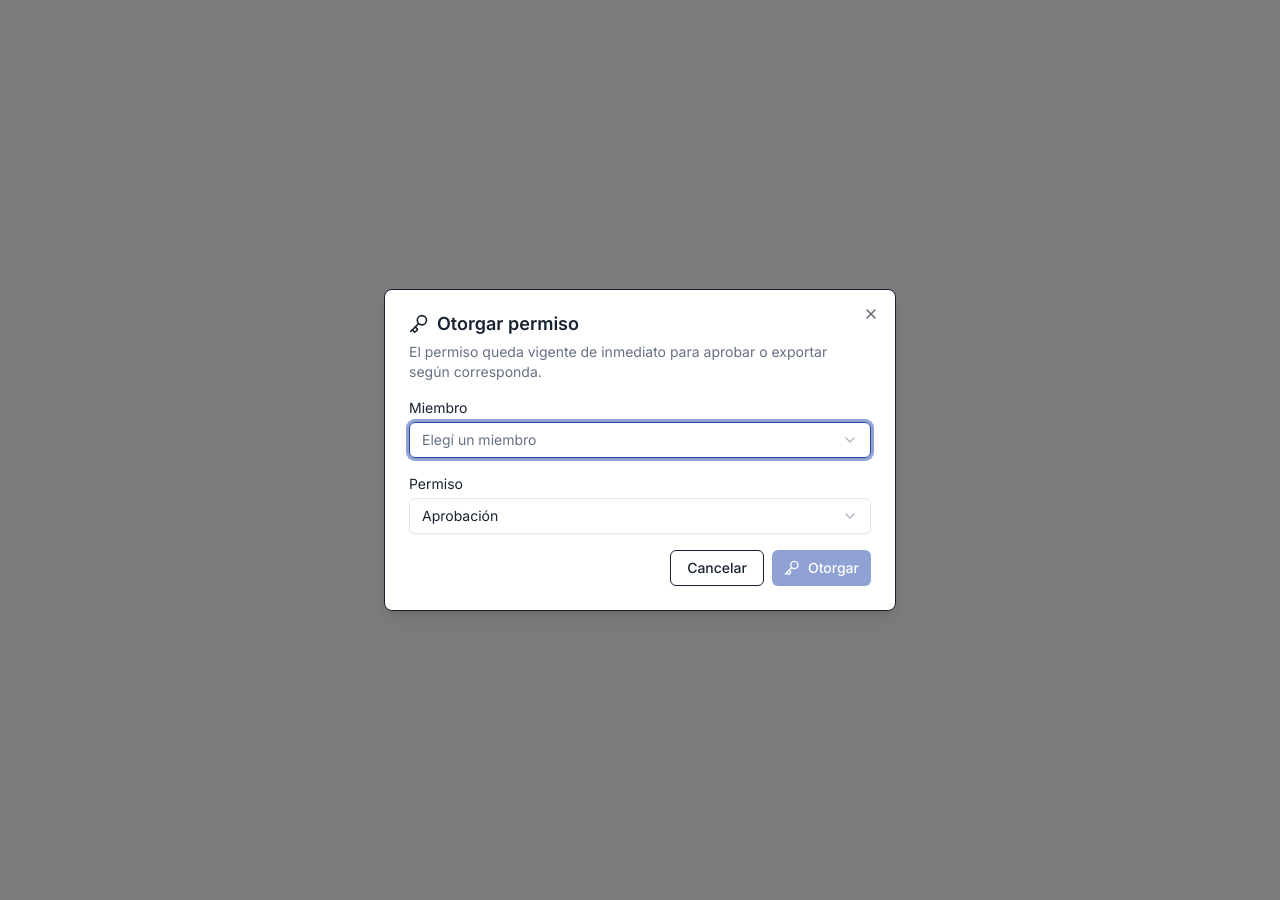
GrantDialog (F3, S9) › 409 duplicado: mensaje mapeado
Press Arrowdown
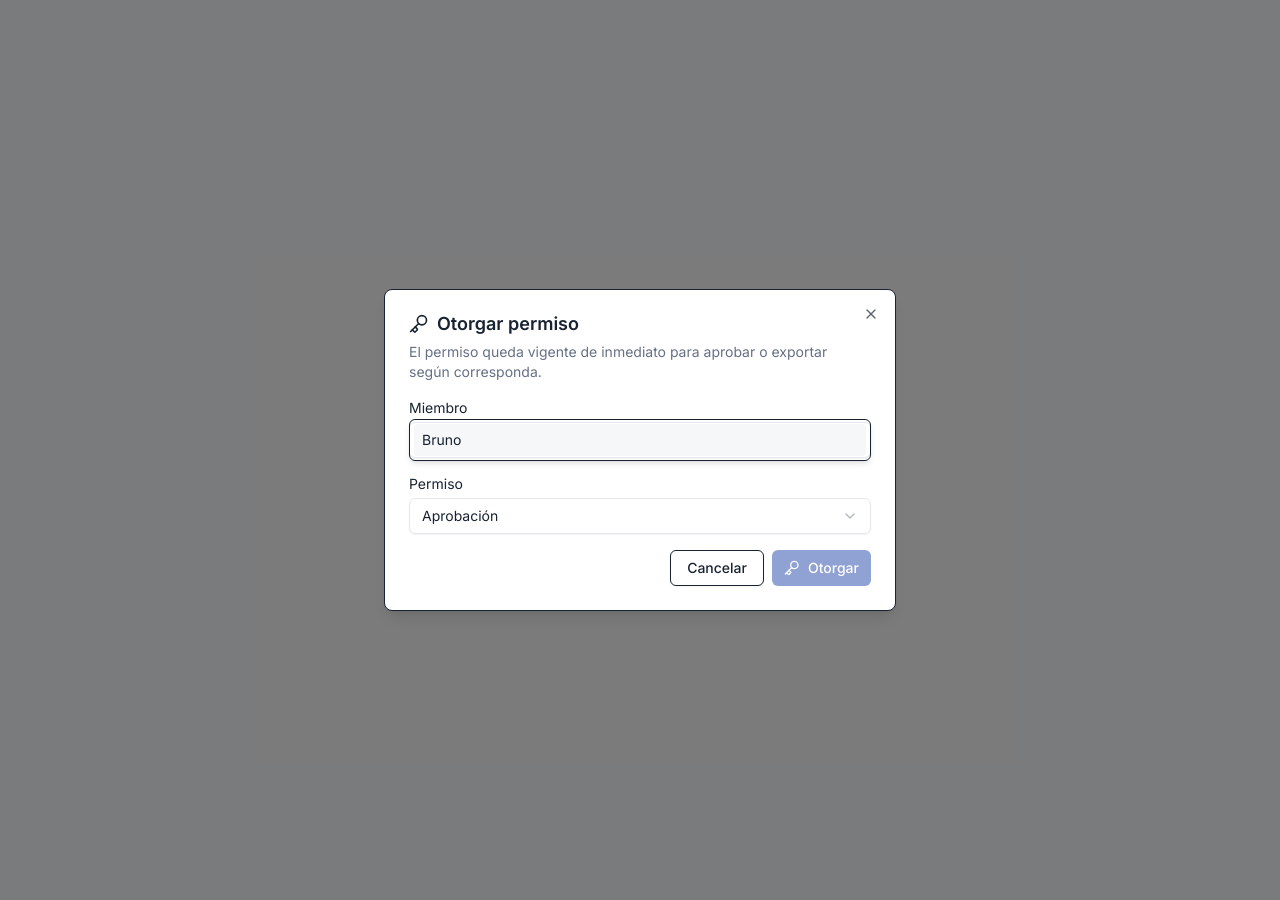
Click the option "Bruno": x=442, y=440 414,424 -> 866,456
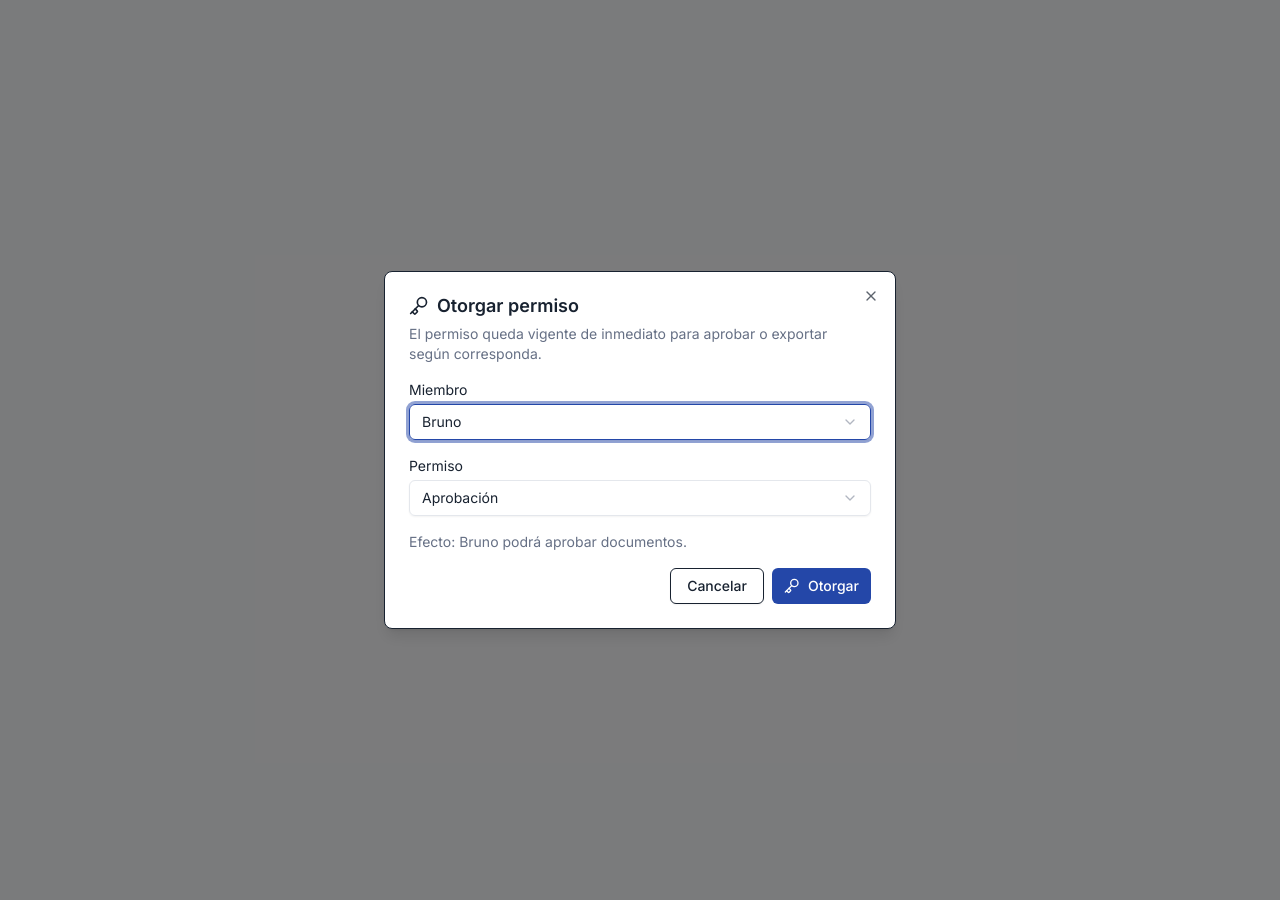
Click the button "Otorgar": x=822, y=586 772,568 -> 871,604
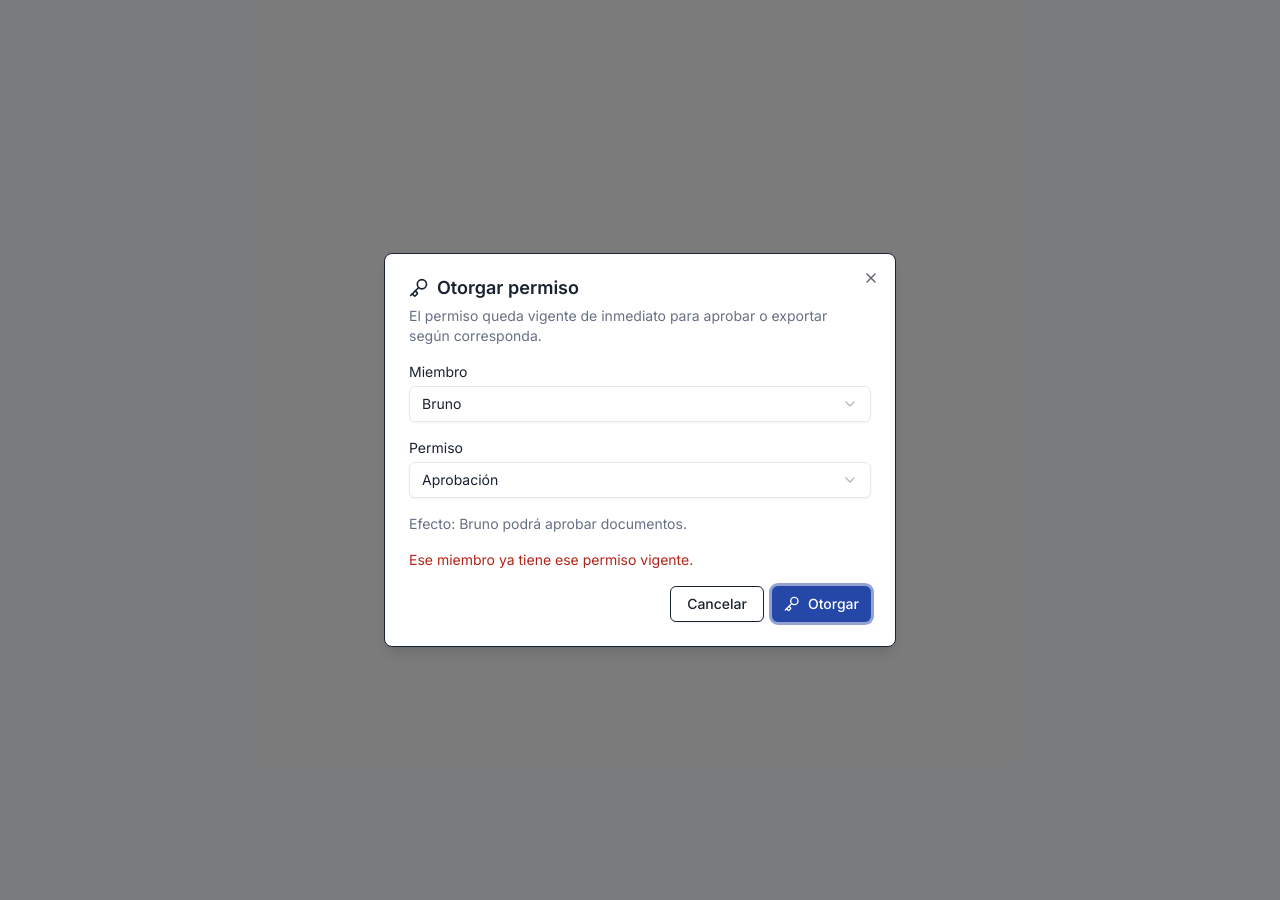
Result: the text "Ese miembro ya tiene ese permiso vigente." is shown at 409,551 -> 693,568
